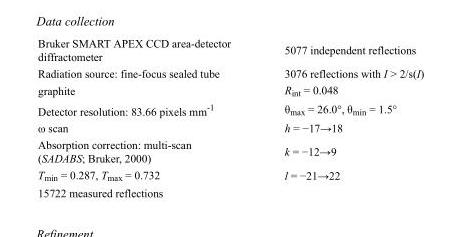table: (37, 36, 423, 198)
table column: (37, 36, 256, 198), (256, 36, 423, 198)
table row: (37, 135, 423, 166), (37, 36, 423, 64), (37, 99, 423, 119), (37, 81, 423, 99), (37, 166, 423, 184), (37, 64, 423, 81), (37, 119, 423, 135), (37, 184, 423, 198)
